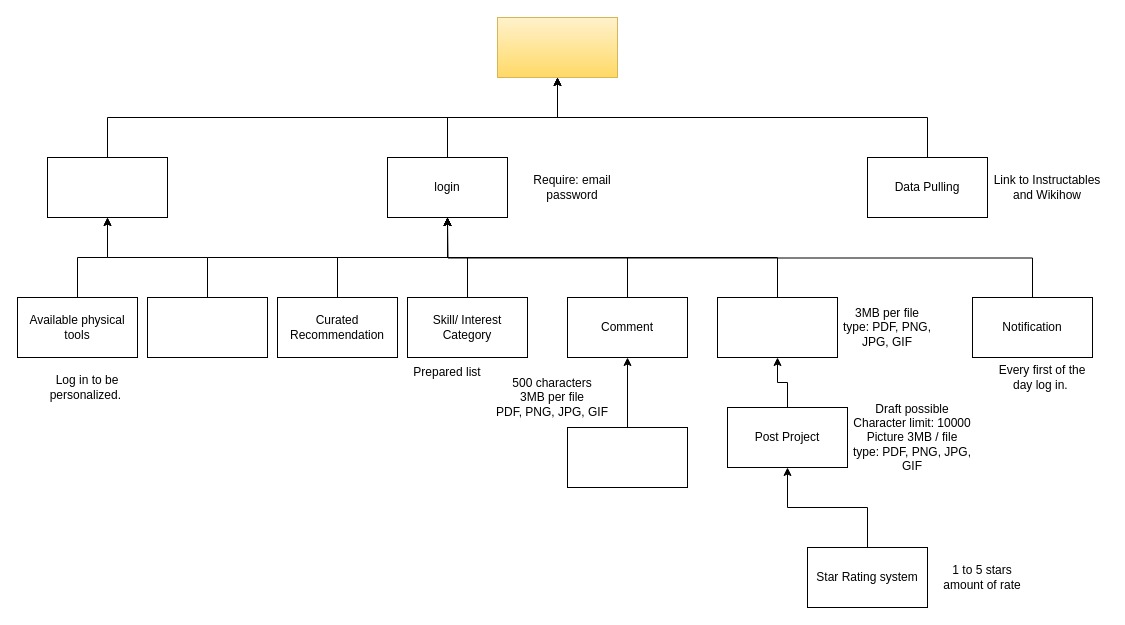
The diagram is 1125 pixels wide and 625 high, and some of its shapes have lost their labels. The shapes that lost their labels are listed below. From the top down, each one's centre as x and y in pixels, then its label:
the point at 557,47: Personalization
the point at 107,187: Search
the point at 207,327: Discovery Page
the point at 777,327: Upload
the point at 627,457: Thumbs up/down
